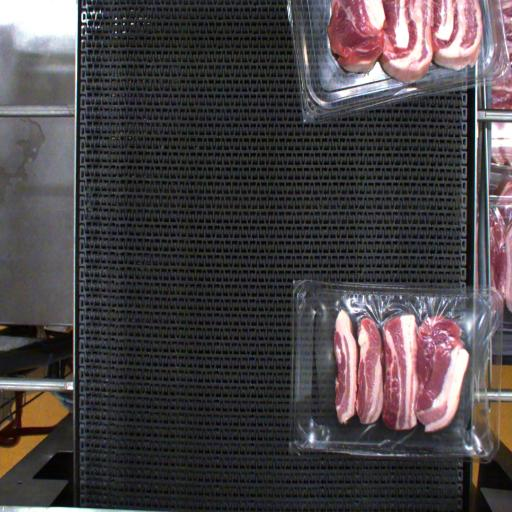unsealed: (300, 285, 494, 446)
